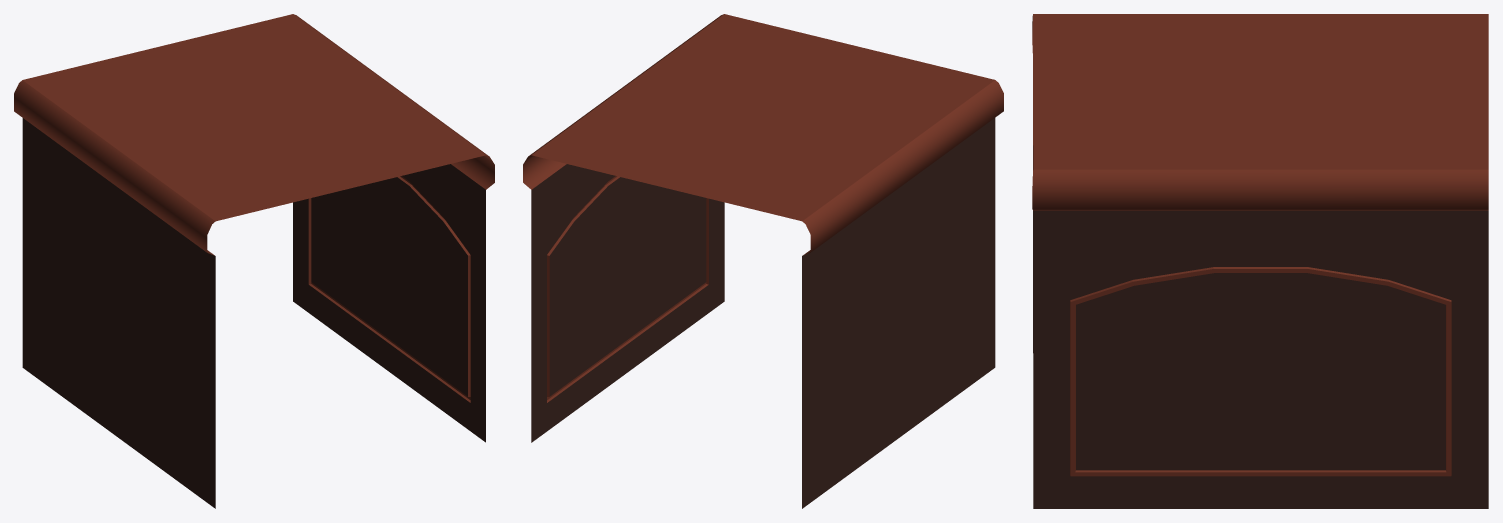
Rendered from bar_straight.FBX.
3 renders of one model, left to right at view 1: azimuth 30°, elevation 25°; view 2: azimuth 150°, elevation 25°; view 3: azimuth 270°, elevation 25°, orthographic. The views are drawn at different scales.
Parts seen in each view (by area): view 1: bar_straight; view 2: bar_straight; view 3: bar_straight.
Part boxes in pixels (<box>): bar_straight: <box>14,14,494,508</box>; bar_straight: <box>523,14,1003,508</box>; bar_straight: <box>1032,14,1488,508</box>.
Size of the model in its own units: 2150 by 2055 by 2504.
1 material, 1 textured.
